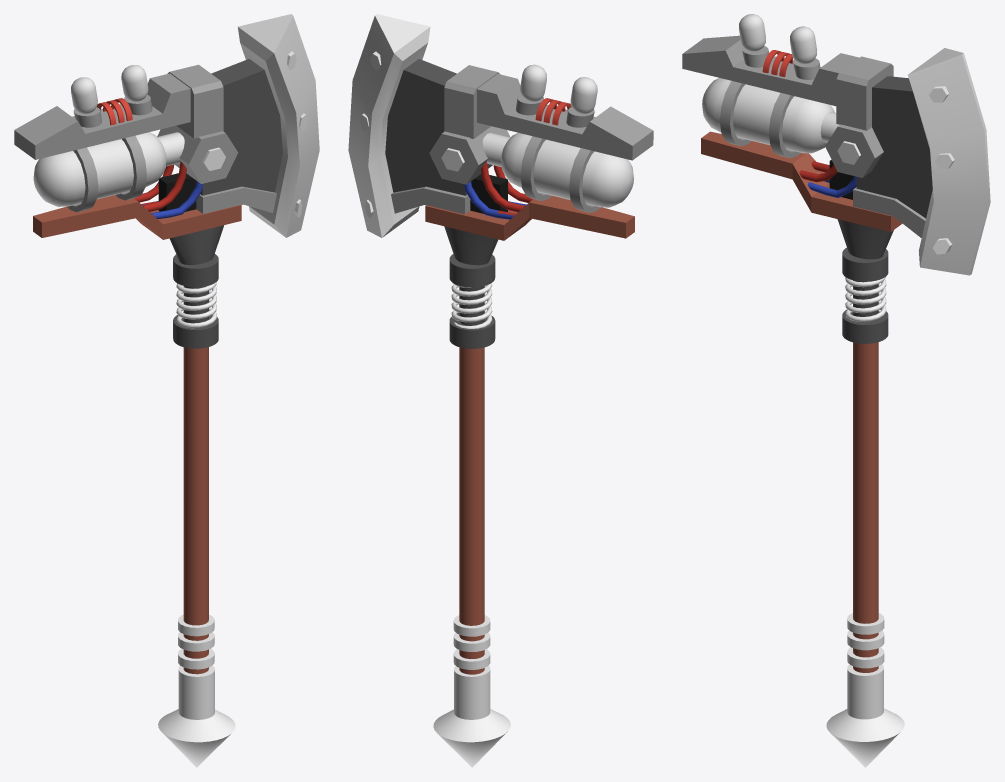
The model's file is Axe.fbx.
3 views of the same model, side by side, from view 1: azimuth 30°, elevation 25°; view 2: azimuth 150°, elevation 25°; view 3: azimuth 330°, elevation 25° (orthographic).
Visible parts, largest first — view 1: Cube.018, Cube.005, Cube.007, Cube.019, Cube, Cube.012, Cylinder, Cube.020, Cylinder.001, Cube.021, Cube.015, Cube.013 (+8 smaller); view 2: Cube.018, Cube.005, Cube.007, Cube.019, Cube, Cube.012, Cylinder, Cube.020, Cylinder.001, Cube.021, Cube.015, Cube.013 (+8 smaller); view 3: Cube.018, Cube.005, Cube.007, Cube, Cube.019, Cube.012, Cylinder, Cube.020, Cylinder.001, Cube.015, Cube.013, Cube.021 (+5 smaller).
Part boxes in pixels (<box>): Cube.018: <box>238,14,319,237</box>; Cube.005: <box>183,347,208,674</box>; Cube.007: <box>200,59,282,195</box>; Cube.019: <box>14,73,190,159</box>; Cube: <box>33,132,166,206</box>; Cube.012: <box>33,195,241,239</box>; Cylinder: <box>158,665,235,767</box>; Cube.020: <box>167,64,223,138</box>; Cylinder.001: <box>173,254,218,348</box>; Cube.021: <box>157,126,238,183</box>; Cube.015: <box>67,135,146,212</box>; Cube.013: <box>169,225,223,323</box>; Cube.018: <box>348,14,430,237</box>; Cube.005: <box>459,347,484,674</box>; Cube.007: <box>385,59,467,195</box>; Cube.019: <box>477,74,653,160</box>; Cube: <box>501,133,633,207</box>; Cube.012: <box>425,195,634,240</box>; Cylinder: <box>433,665,510,767</box>; Cube.020: <box>444,65,499,138</box>; Cylinder.001: <box>449,254,495,348</box>; Cube.021: <box>429,126,510,184</box>; Cube.015: <box>520,136,600,212</box>; Cube.013: <box>444,226,498,325</box>; Cube.018: <box>908,48,990,275</box>; Cube.005: <box>853,342,878,672</box>; Cube.007: <box>856,76,932,218</box>; Cube: <box>702,78,834,153</box>; Cube.019: <box>682,35,859,106</box>; Cube.012: <box>701,131,902,231</box>; Cylinder: <box>826,664,904,767</box>; Cube.020: <box>836,56,893,130</box>; Cylinder.001: <box>842,247,888,343</box>; Cube.015: <box>720,81,800,158</box>; Cube.013: <box>837,219,893,316</box>; Cube.021: <box>825,124,883,177</box>.
Bounding box in the file's own units: 198 × 469 × 46.52.
